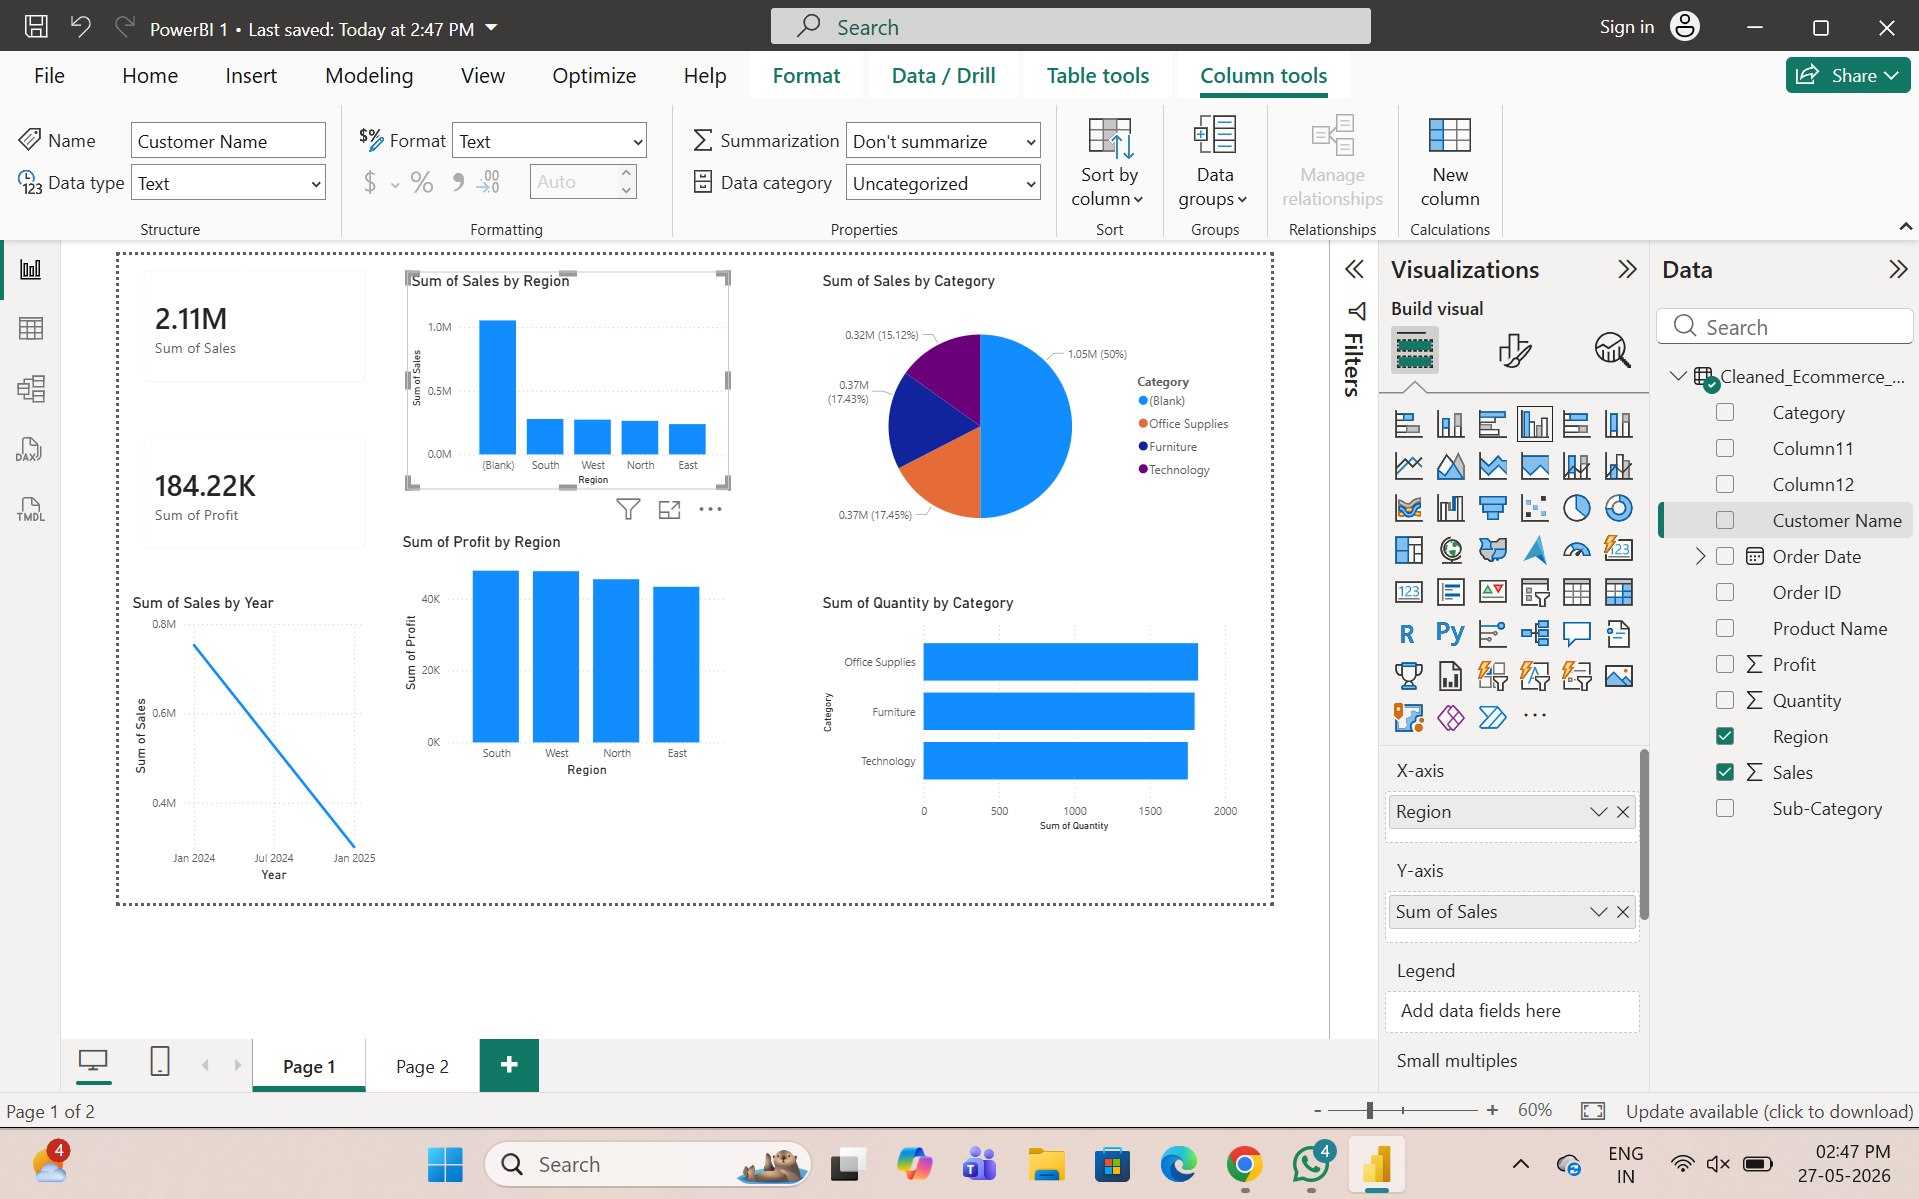

Layout of this report page (visuals, bound fields, positions):
{"tool":"powerbi","page":{"name":"Page 1","canvas":[1280,720],"ordinal":0},"visuals":[{"type":"cardVisual","fields":{"Data":["Sum(Cleaned_Ecommerce_Dataset.Sales)"]},"box":[10,0,280,158],"z":0},{"type":"cardVisual","fields":{"Data":["Sum(Cleaned_Ecommerce_Dataset.Profit)"]},"box":[10,186,280,156],"z":1000},{"type":"clusteredColumnChart","fields":{"Y":["Sum(Cleaned_Ecommerce_Dataset.Sales)"],"Category":["Cleaned_Ecommerce_Dataset.Region"]},"box":[319.4,18.9,359.1,241.9],"z":2000},{"type":"clusteredColumnChart","fields":{"Category":["Cleaned_Ecommerce_Dataset.Region"],"Y":["Sum(Cleaned_Ecommerce_Dataset.Profit)"]},"box":[309.9,308,368.5,275.9],"z":3000},{"type":"pieChart","fields":{"Category":["Cleaned_Ecommerce_Dataset.Category"],"Y":["Sum(Cleaned_Ecommerce_Dataset.Sales)"]},"box":[776,18,470,324],"z":4000},{"type":"clusteredBarChart","fields":{"Category":["Cleaned_Ecommerce_Dataset.Category"],"Y":["Sum(Cleaned_Ecommerce_Dataset.Quantity)"]},"box":[776,376,470,268],"z":5000},{"type":"lineChart","fields":{"Category":["Cleaned_Ecommerce_Dataset.Order Date.Variation.Date Hierarchy.Year","Cleaned_Ecommerce_Dataset.Order Date.Variation.Date Hierarchy.Quarter","Cleaned_Ecommerce_Dataset.Order Date.Variation.Date Hierarchy.Month","Cleaned_Ecommerce_Dataset.Order Date.Variation.Date Hierarchy.Day"],"Y":["Sum(Cleaned_Ecommerce_Dataset.Sales)"]},"box":[10,376,280,324],"z":6000}]}

Visuals, with their boxes on the page's 1280x720 design canvas (x1, y1, x2, y2). These are canvas units, not pixel positions in the 1919x1199 screenshot, which may show the page scaled, cropped or inside an application window:
cardVisual - Sum(Cleaned_Ecommerce_Dataset.Sales): select_region(10, 0, 290, 158)
cardVisual - Sum(Cleaned_Ecommerce_Dataset.Profit): select_region(10, 186, 290, 342)
clusteredColumnChart - Sum(Cleaned_Ecommerce_Dataset.Sales) x Cleaned_Ecommerce_Dataset.Region: select_region(319, 19, 678, 261)
clusteredColumnChart - Cleaned_Ecommerce_Dataset.Region x Sum(Cleaned_Ecommerce_Dataset.Profit): select_region(310, 308, 678, 584)
pieChart - Cleaned_Ecommerce_Dataset.Category x Sum(Cleaned_Ecommerce_Dataset.Sales): select_region(776, 18, 1246, 342)
clusteredBarChart - Cleaned_Ecommerce_Dataset.Category x Sum(Cleaned_Ecommerce_Dataset.Quantity): select_region(776, 376, 1246, 644)
lineChart - Cleaned_Ecommerce_Dataset.Order Date.Variation.Date Hierarchy.Year x Cleaned_Ecommerce_Dataset.Order Date.Variation.Date Hierarchy.Quarter: select_region(10, 376, 290, 700)
